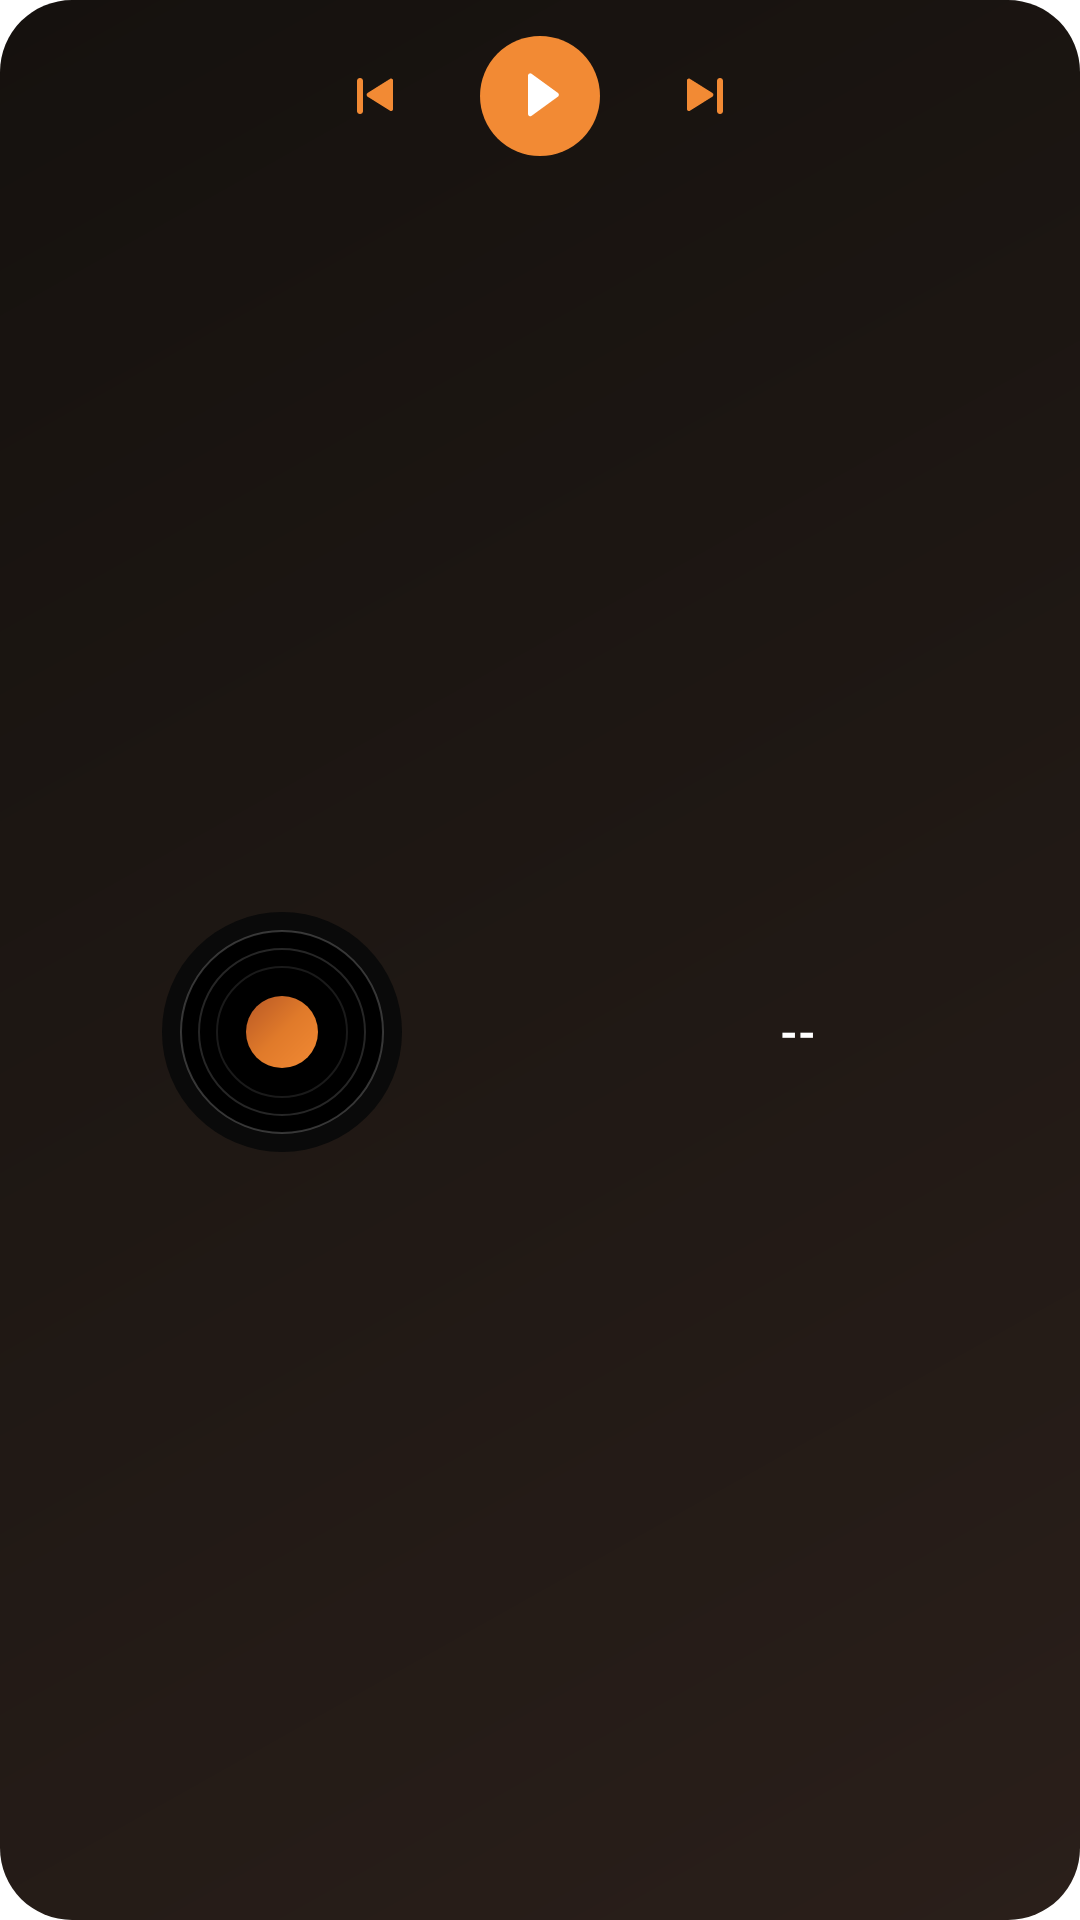

Point at icon controls on the screen. Image size 1080px x 1920px, points as [x,y].
widget next: [705,96]
widget play: [540,96]
widget prev: [375,96]
widget vinyl disc: [282,1032]
